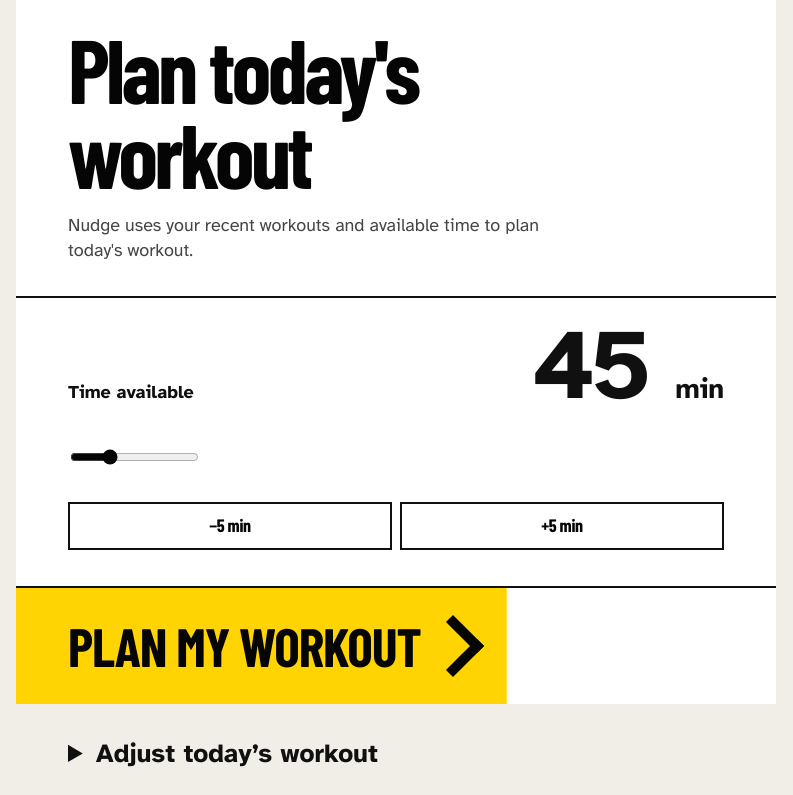
Test: Generator Component › reports a no-fit plan when configured phases consume the total budget
(page scrolled)
Click the button "Plan my workout": {"x": 261, "y": 646} x1=16 y1=588 x2=507 y2=704
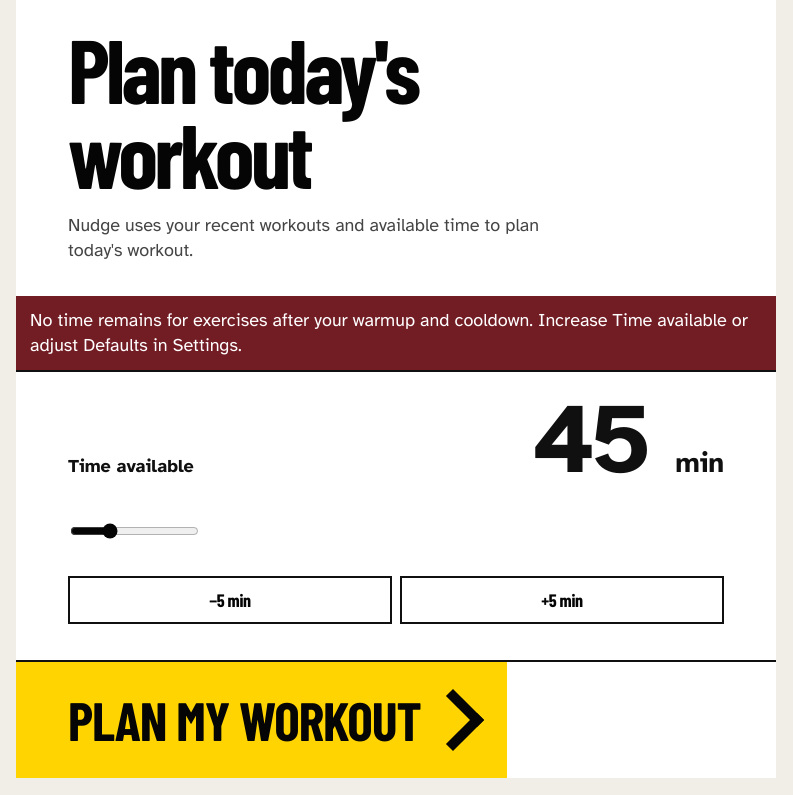
Result: the message shows "No time remains for exercises" at x1=30 y1=308 x2=748 y2=356
